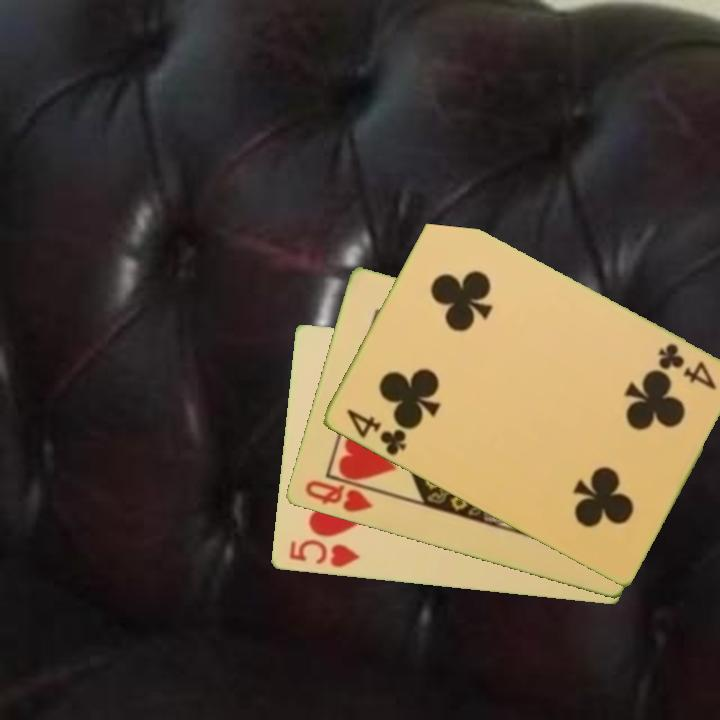4c: (342, 405, 409, 459), (654, 339, 719, 393)
5h: (285, 536, 362, 571)
Qh: (301, 477, 375, 516)
